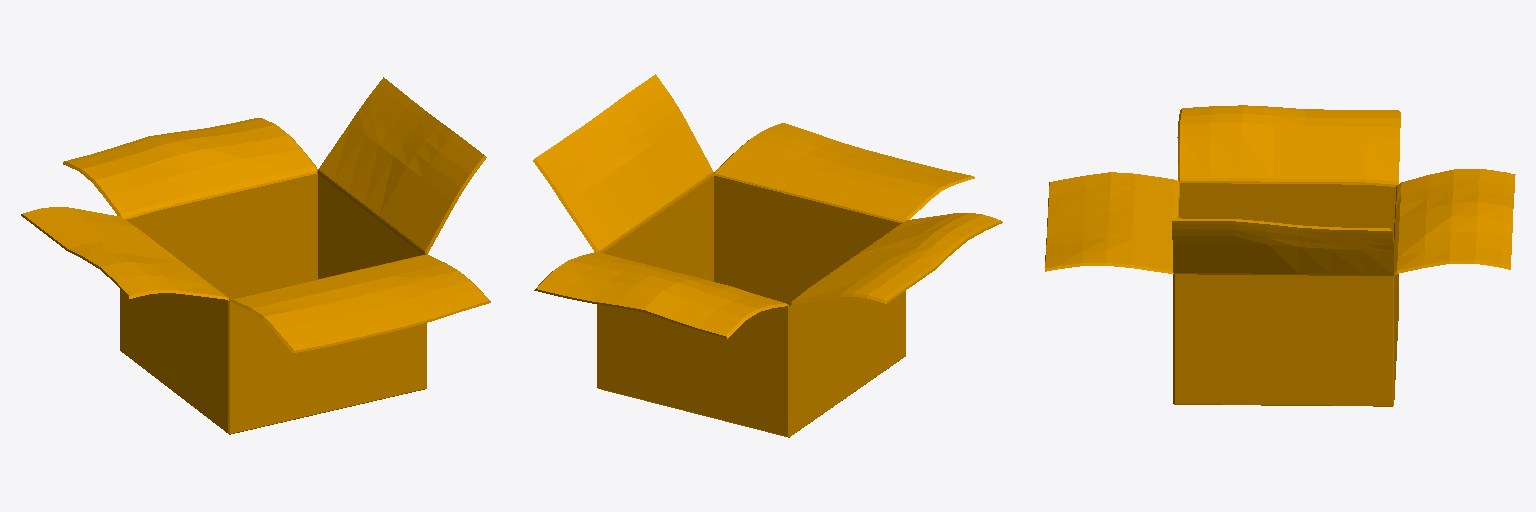
robot.urdf — carton_box:
<robot name="carton_box">
  <link name="carton_box">
    <inertial>
      <origin xyz="0 0 0.0145"/>
      <mass value="0.1" />
      <inertia  ixx="0.0001" ixy="0.0"  ixz="0.0"  iyy="0.0001"  iyz="0.0"  izz="0.0001" />
    </inertial>
    <visual>
      <origin xyz="0 0 0.0145"/>
      <geometry>        
     <mesh filename="carton_box.dae" scale="1 1 1"/>
    </geometry>
    </visual>
    <collision>
      <origin xyz="0 0 0.0145"/>
      <geometry>
        <box size="0.029 0.029 0.029"/>
      </geometry>
    </collision>
  </link>
  <gazebo reference="carton_box">
    <material>Gazebo/Blue</material>
  </gazebo>
</robot>

--- What the picture shows (computed from the rendered views, not written in the file) ---
Views: 3 orthographic renders of the robot side by side, from view 1: azimuth 30°, elevation 25°; view 2: azimuth 150°, elevation 25°; view 3: azimuth 270°, elevation 25°.
Model carton_box with 1 links and 0 joints (none), rooted at carton_box, posed all joints at 0.
Visible links, largest first — view 1: carton_box; view 2: carton_box; view 3: carton_box.
Link boxes in pixels (x1=…): carton_box: x1=21, y1=77, x2=490, y2=434; carton_box: x1=533, y1=74, x2=1002, y2=437; carton_box: x1=1045, y1=105, x2=1515, y2=406.
Size in the robot's own frame: 0.5878 by 0.6781 by 0.3401 metres.
Meshes: 1 distinct files referenced, 1 mesh visuals loaded (1 Collada DAE).